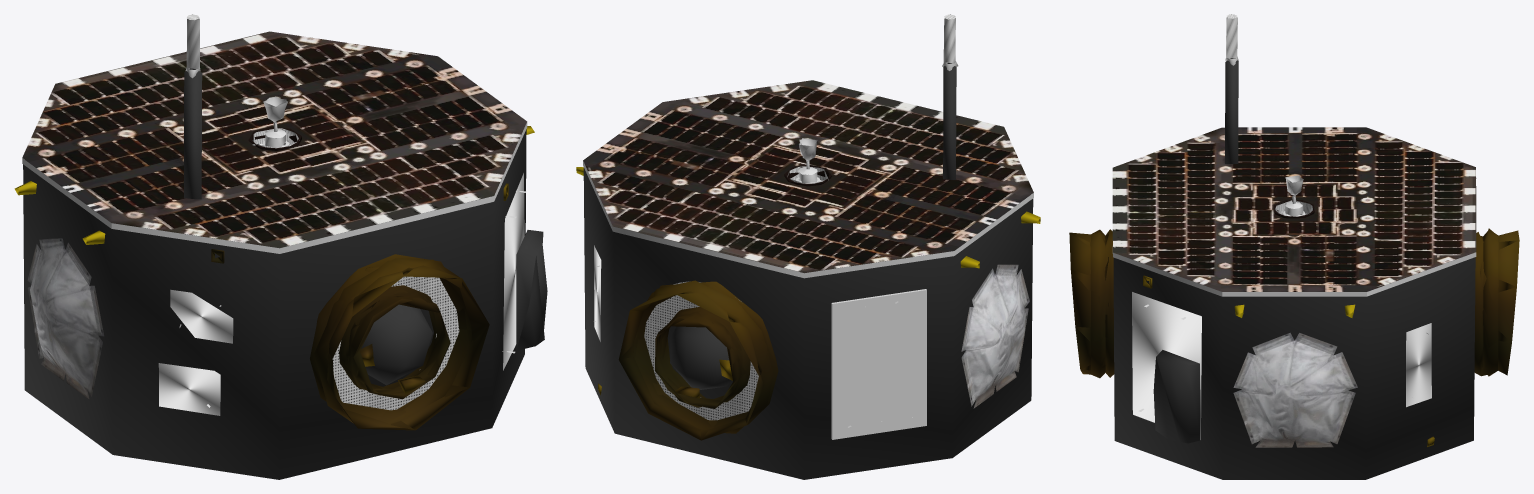
File: ibex_lod2.glb
3 renders of one model, left to right at view 1: azimuth 30°, elevation 25°; view 2: azimuth 150°, elevation 25°; view 3: azimuth 270°, elevation 25°, orthographic. The views are drawn at different scales.
Parts seen in each view (by area): view 1: ibex_lod2; view 2: ibex_lod2; view 3: ibex_lod2.
Part boxes in pixels (box(x1,y1,x2,y2)): ibex_lod2: box(14, 14, 547, 479); ibex_lod2: box(576, 14, 1040, 479); ibex_lod2: box(1069, 14, 1519, 479).
Bounding box in the file's own units: 1.12 × 0.9772 × 1.18.
Materials: 5 (3 with a texture image).
